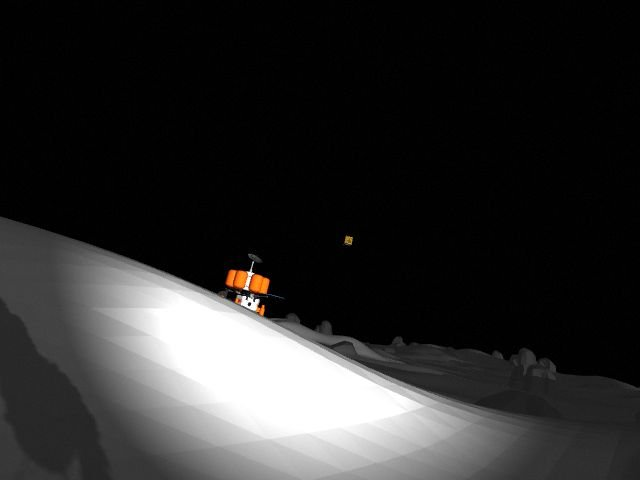homebase: (203, 250, 286, 333)
